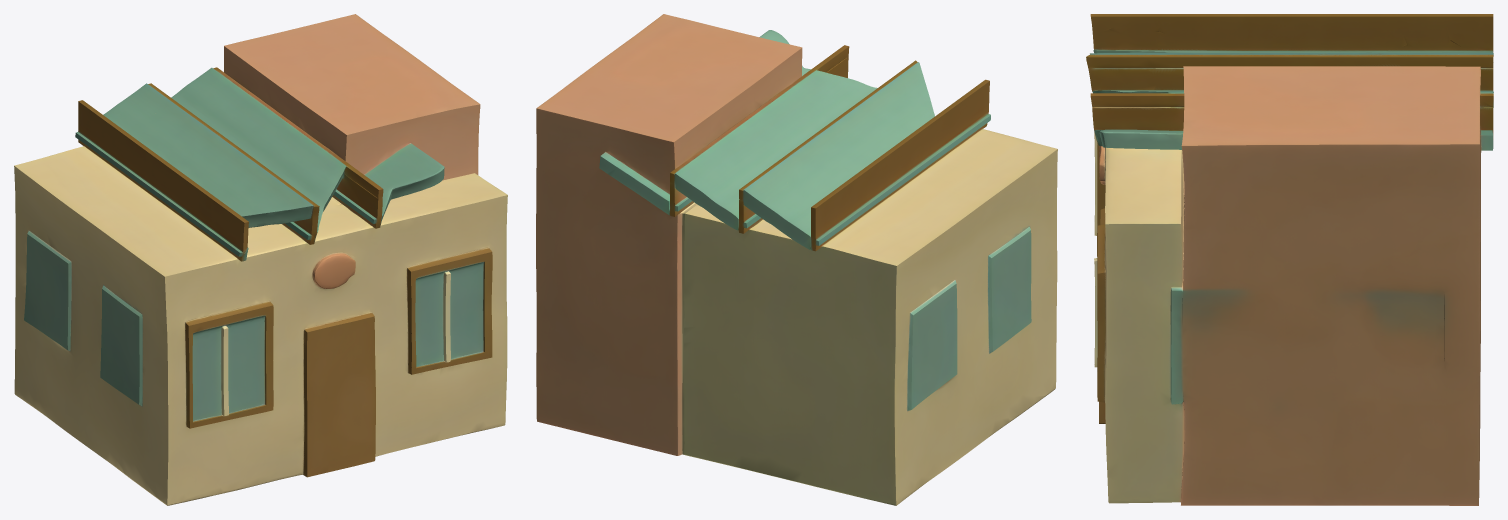
3 views of the same model, side by side, from view 1: azimuth 30°, elevation 25°; view 2: azimuth 150°, elevation 25°; view 3: azimuth 270°, elevation 25° (orthographic). The views are drawn at different scales.
Parts seen in each view (by area): view 1: model; view 2: model; view 3: model.
Boxes of the visible parts, x1,y1,x2,y2 form: model: (14,14,507,505); model: (536,14,1057,505); model: (1086,14,1493,505).
Size of the model in its own units: 1.9 by 1.56 by 1.59.
Materials: 1 (1 with a texture image).
